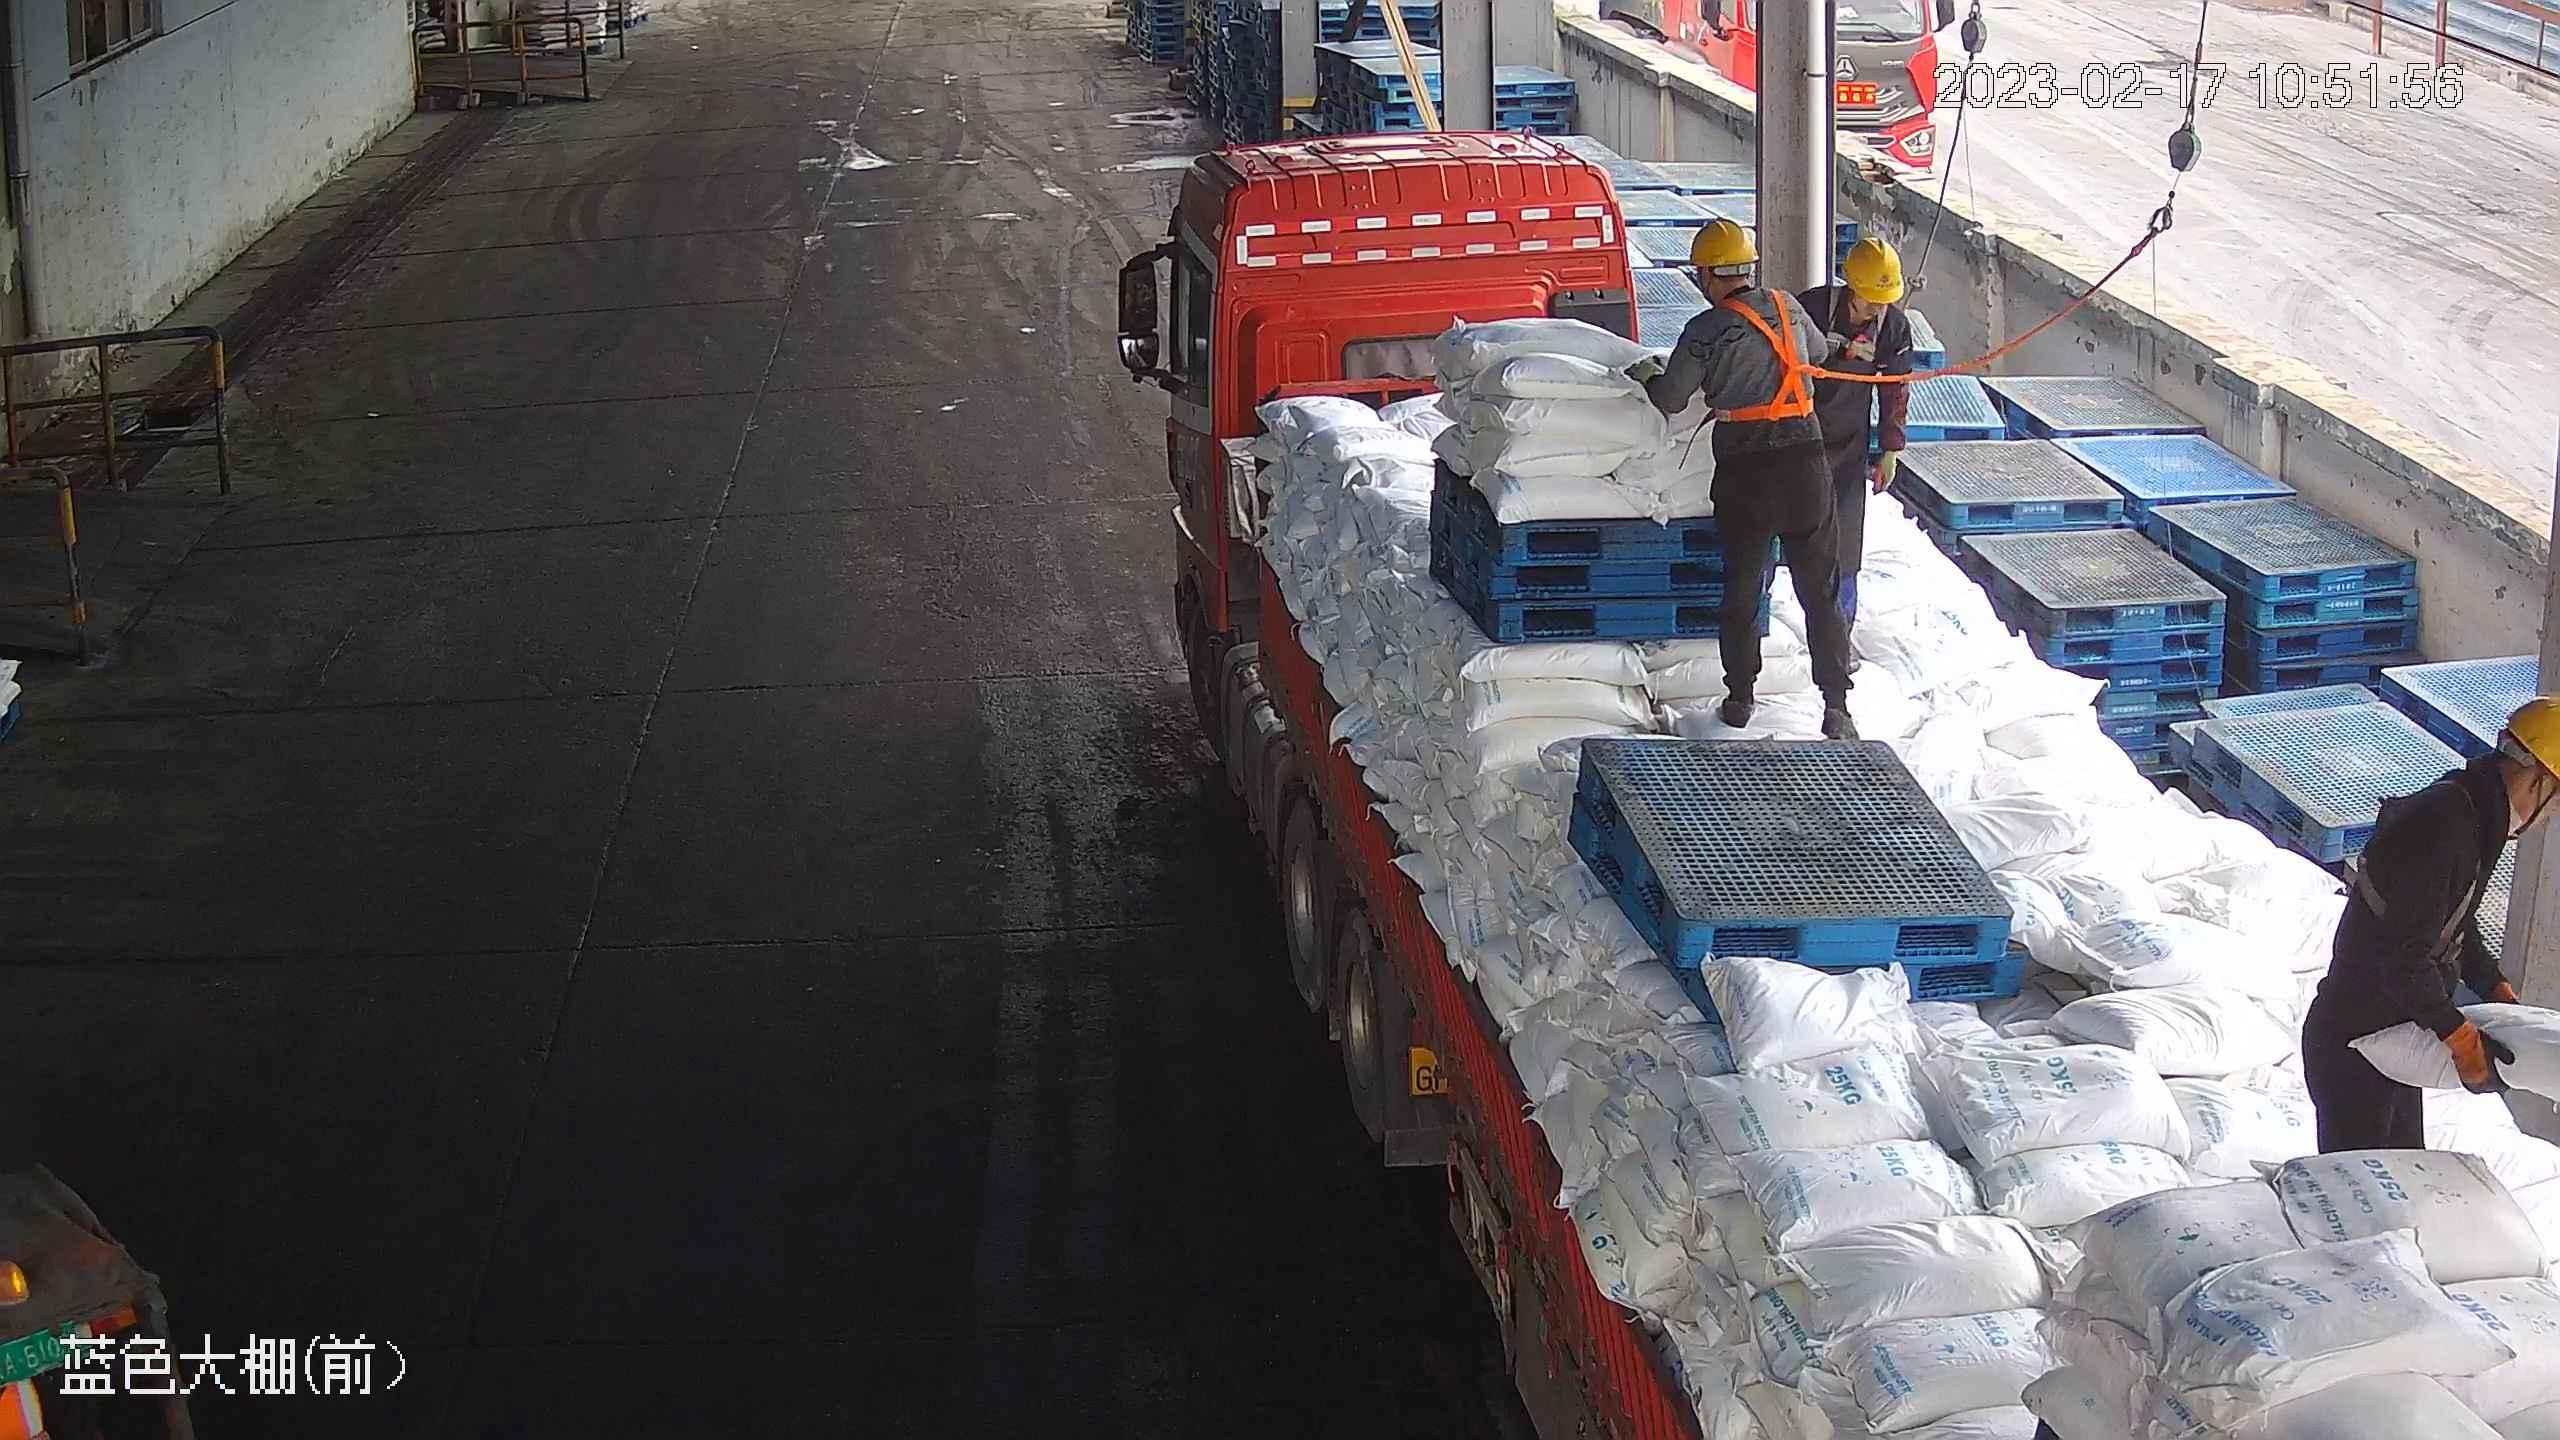belt: (2366, 772, 2501, 940), (1713, 291, 1828, 426), (1827, 301, 1885, 359)
head: (2400, 691, 2560, 876), (1678, 217, 1813, 352), (1803, 237, 1909, 349)
helmet: (2501, 690, 2560, 802), (1839, 234, 1905, 308), (1685, 215, 1758, 268)
people: (1629, 220, 1909, 736), (2300, 692, 2560, 1159)
truck: (1122, 132, 2555, 1440)
